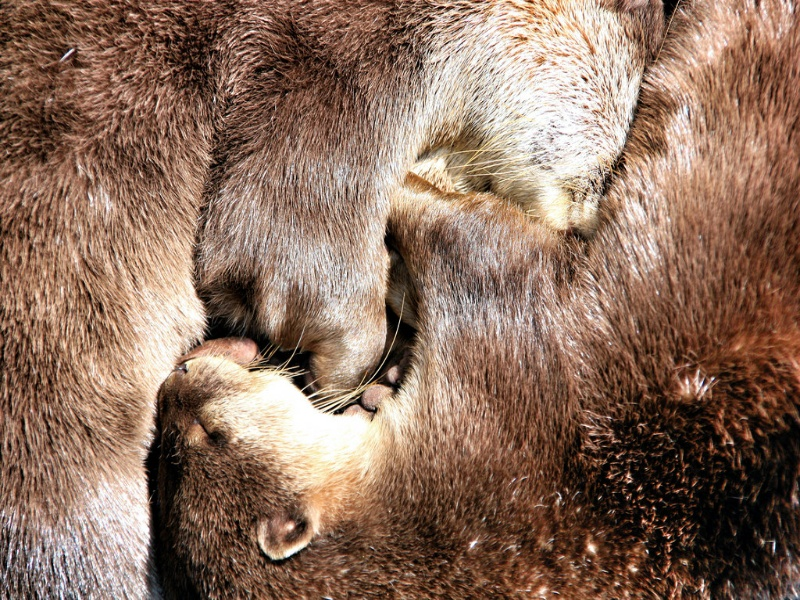minkish: (172, 29, 800, 598), (1, 19, 651, 390)
